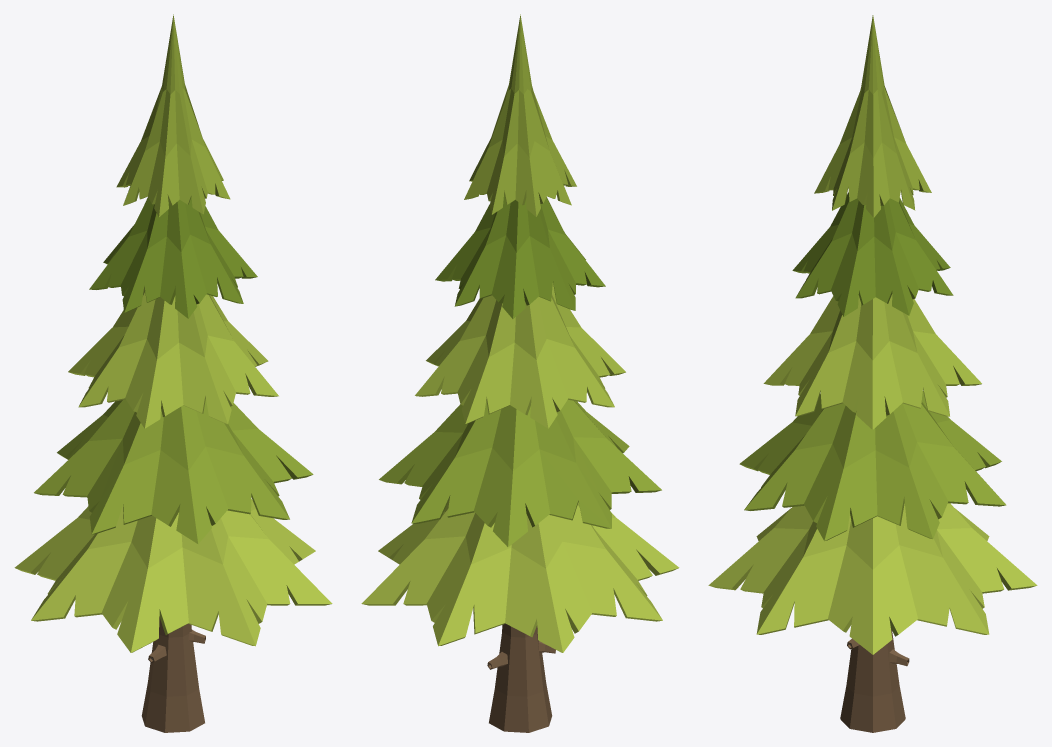
File: NHP_Tree_LP_B1_6m_01.fbx
3 views of the same model, side by side, from view 1: azimuth 30°, elevation 25°; view 2: azimuth 150°, elevation 25°; view 3: azimuth 270°, elevation 25° (orthographic).
Parts seen in each view (by area): view 1: NHP_Tree_LP_B1_6m_01_LOD0; view 2: NHP_Tree_LP_B1_6m_01_LOD0; view 3: NHP_Tree_LP_B1_6m_01_LOD0.
Boxes of the visible parts, left/top/right/bottom form: NHP_Tree_LP_B1_6m_01_LOD0: left=14, top=14, right=332, bottom=732; NHP_Tree_LP_B1_6m_01_LOD0: left=361, top=14, right=679, bottom=732; NHP_Tree_LP_B1_6m_01_LOD0: left=708, top=15, right=1037, bottom=732.
Size of what is drawn, in the model's own units: 2.67 by 6.3 by 2.67.
